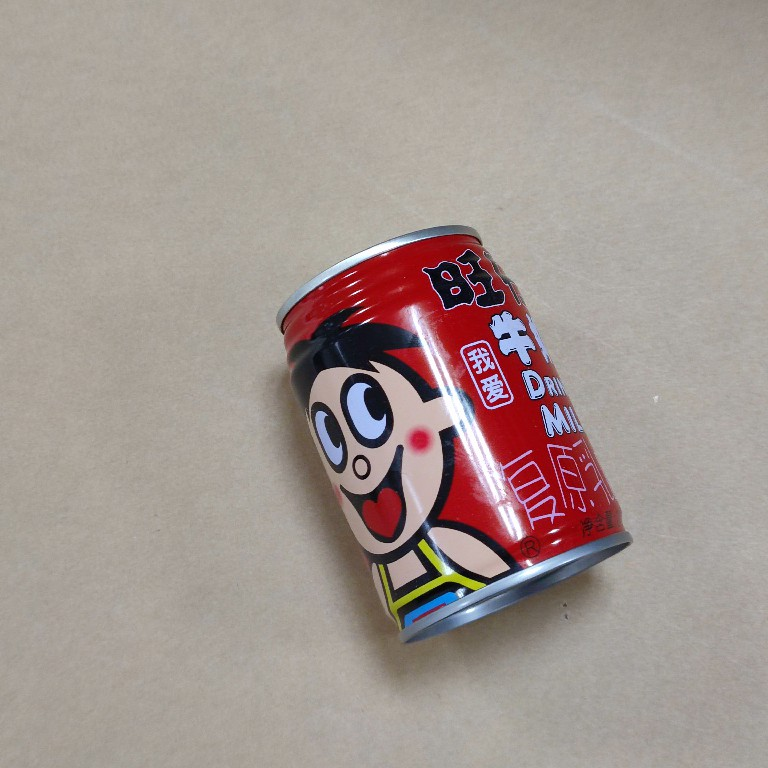can: (274, 222, 637, 648)
